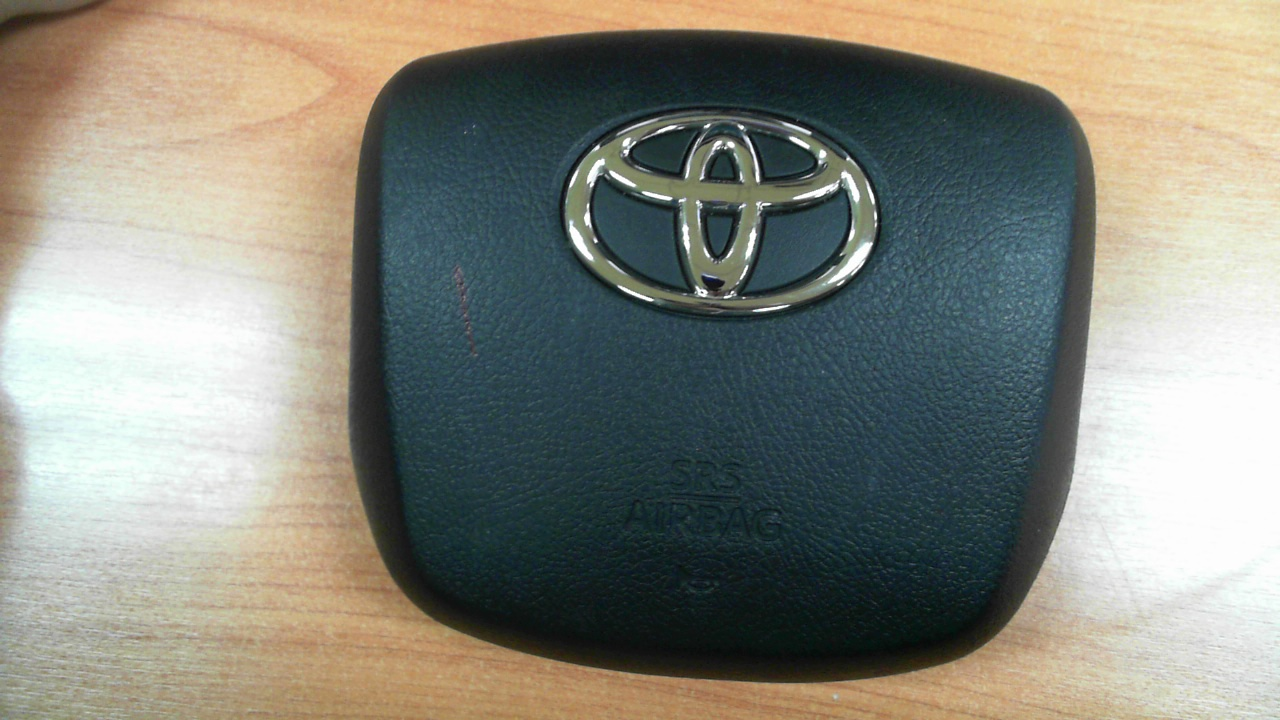Airbag: (346, 29, 1099, 686)
Toyota: (564, 109, 878, 316)
